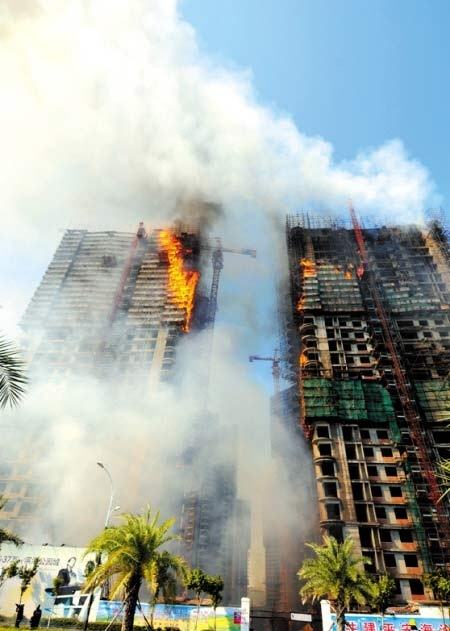fire: (158, 228, 198, 328), (294, 254, 317, 307)
